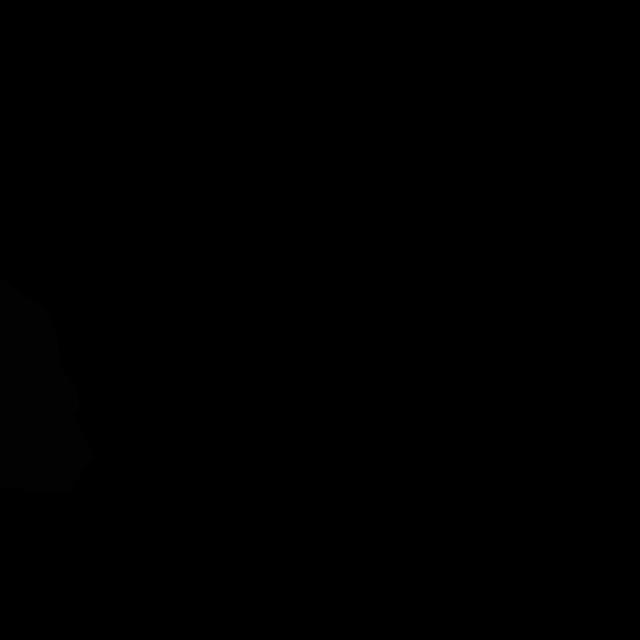cardboard: (0, 278, 94, 494)
